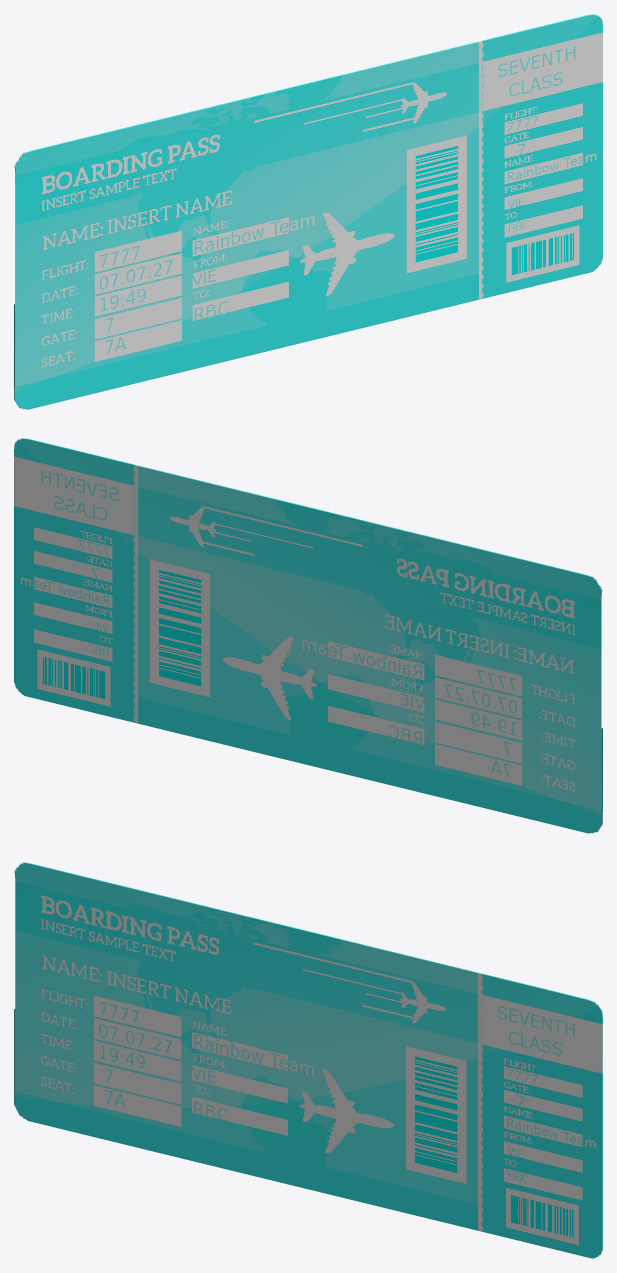
Rendered from flug_final.glb.
The picture shows the model from 3 angles, top to bottom: view 1: azimuth 30°, elevation 25°; view 2: azimuth 150°, elevation 25°; view 3: azimuth 330°, elevation 25°; orthographic projection.
Parts seen in each view (by area): view 1: Extrudieren; view 2: Extrudieren; view 3: Extrudieren.
Boxes of the visible parts, x1,y1,x2,y2 form: Extrudieren: (14, 14, 602, 409); Extrudieren: (14, 438, 602, 833); Extrudieren: (14, 862, 602, 1258).
Size of the model in its own units: 11.91 by 4.99 by 0.0217.
1 material, 1 textured.
